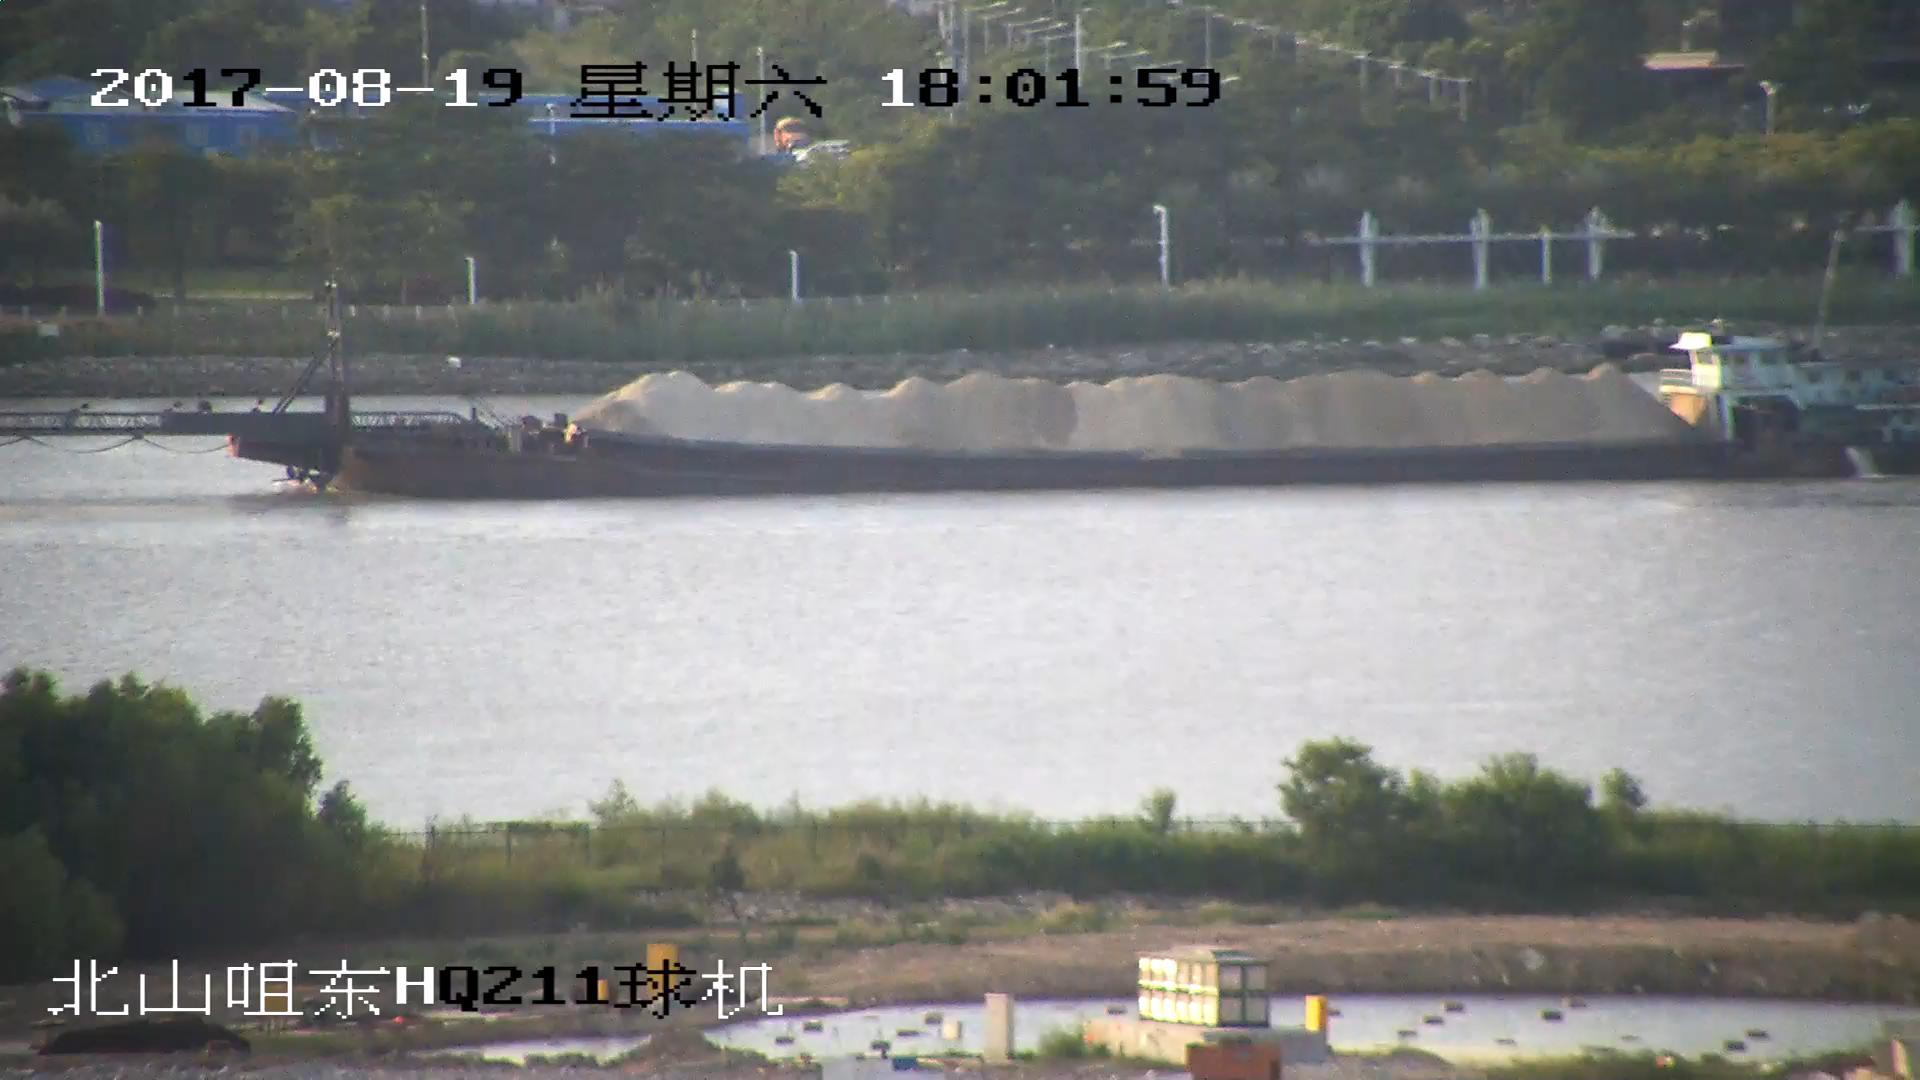Ship: (3, 281, 1920, 495)
